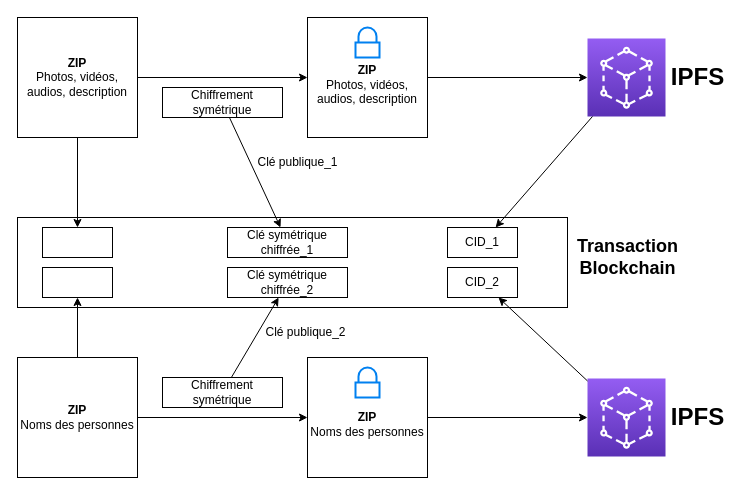
Some shapes in this 755 by 495 pixel diagram are drawn without their labels. The centre of each missing label's shape, as x and y in pixels:
"Hash_1" goes at (x=77, y=242).
"Hash_2" goes at (x=77, y=282).
